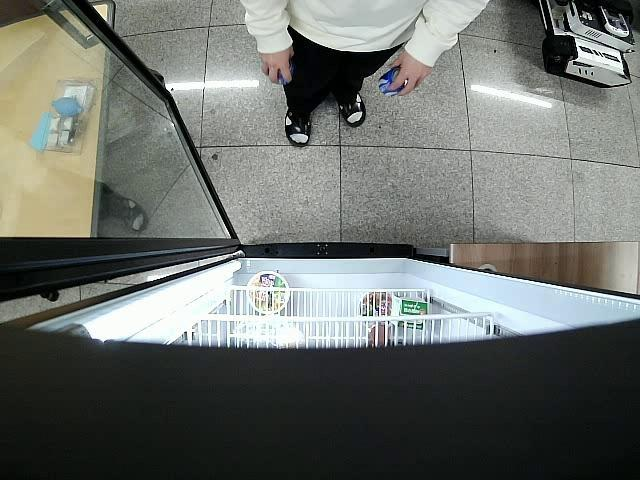13_pocariSweat: (377, 67, 412, 96)
